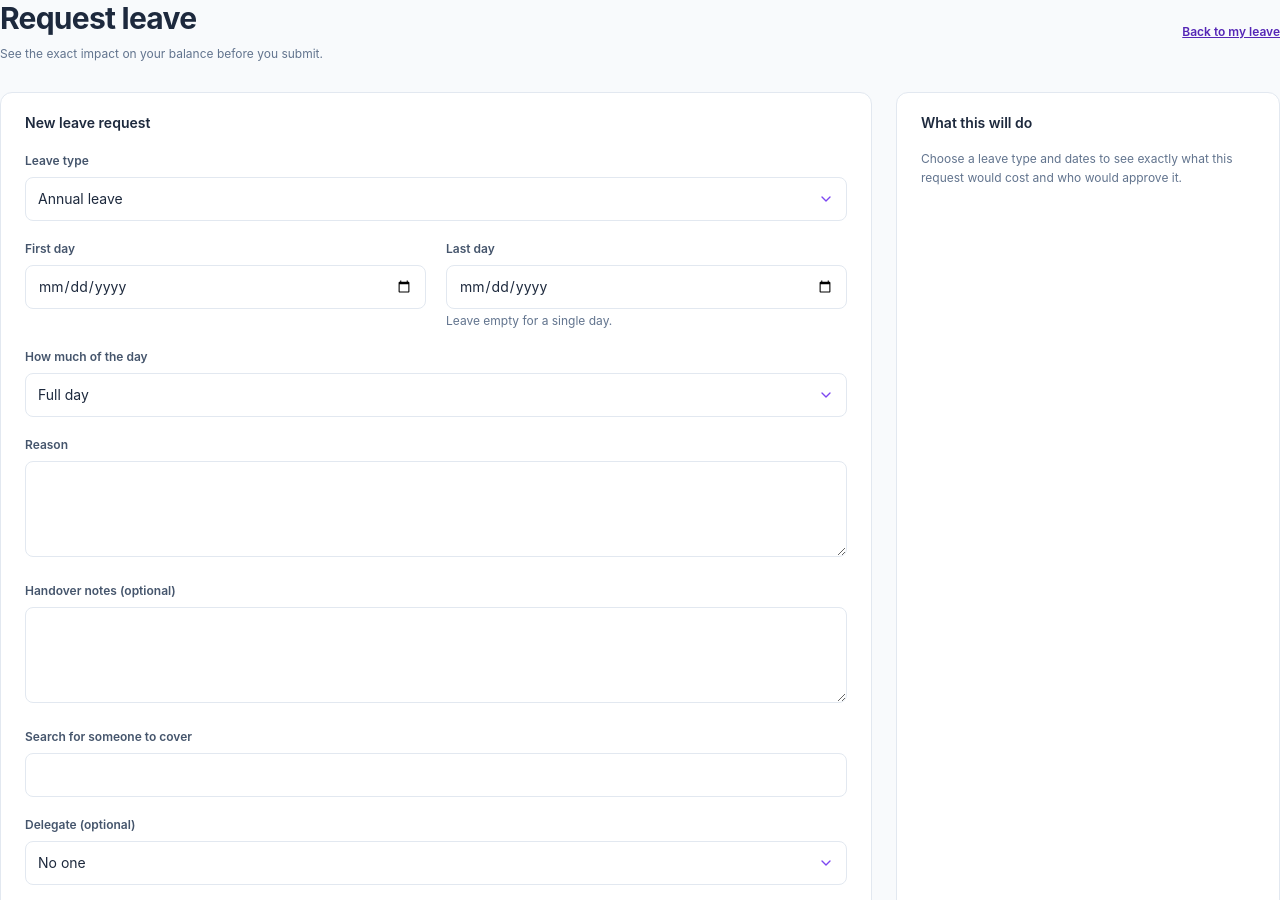
New request flow › previews the charge, explains it, and submits once with an idempotency key
The width and height of the screenshot is (1280, 900).
Type "2026-10-15" into the date field labelled "First day".
click(226, 286); type("2026-10-15")  # box [25,264,426,308]
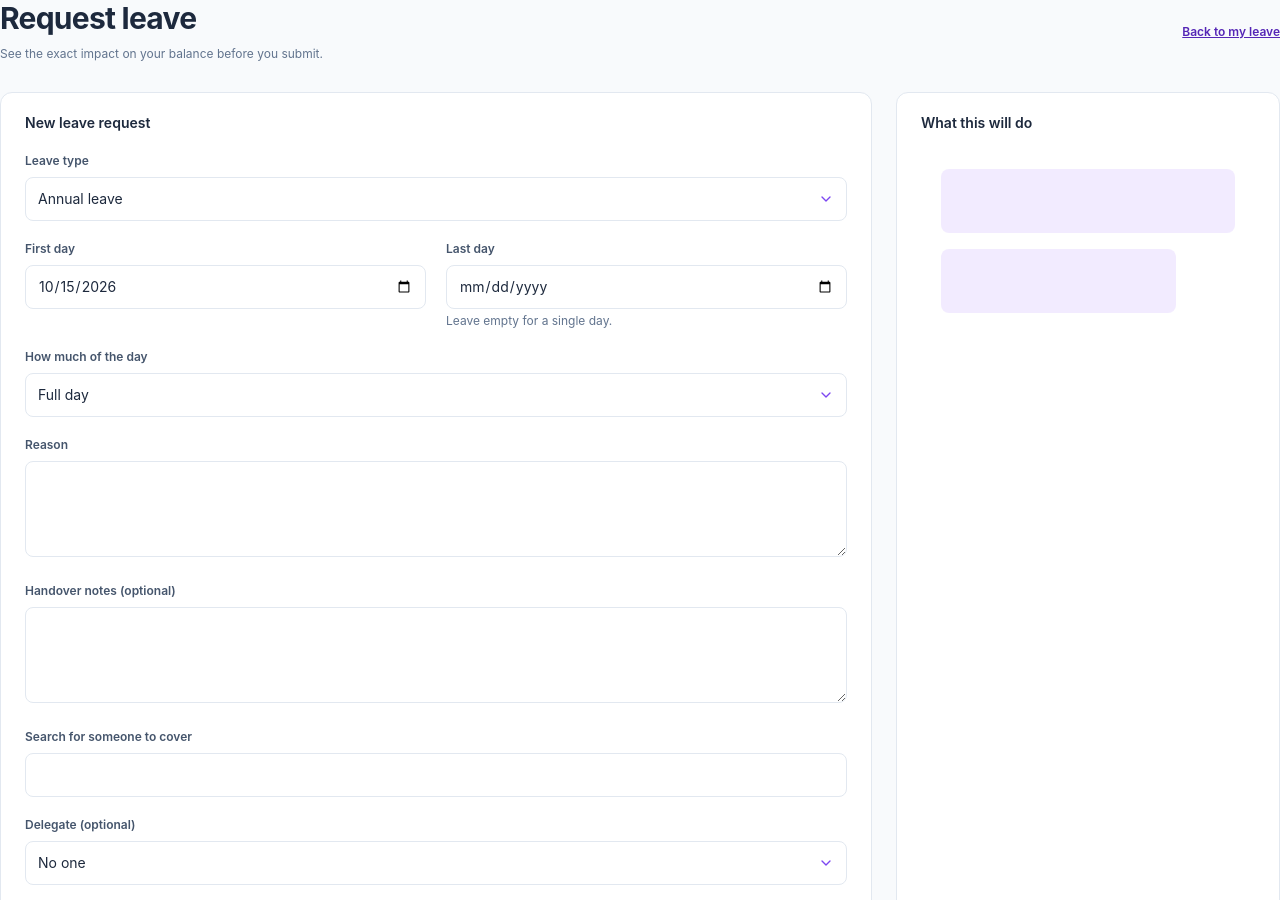
Type "2026-10-16" into the date field labelled "Last day".
click(646, 286); type("2026-10-16")  # box [446,264,847,308]
(page scrolled)
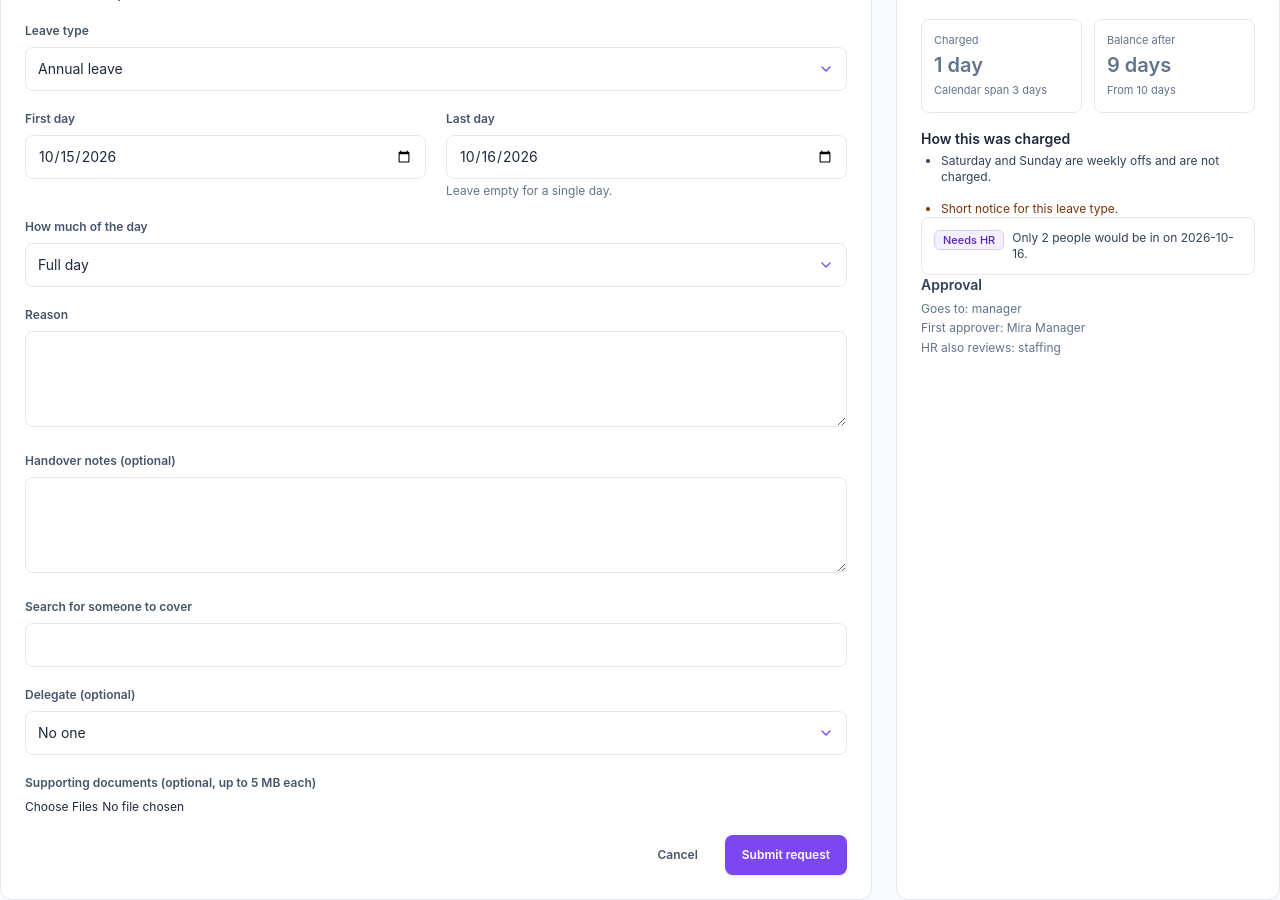
Check: the text with test id "charged" reads "1 day", box [934,53,983,77]
Check: the text with test id "projected" reads "9 days", box [1107,53,1171,77]
Check: the list item "Saturday and Sunday are weekly offs and are not charged." is shown, box [941,153,1255,185]
Click the button "Submit request".
click(786, 854)  # box [725,834,847,874]
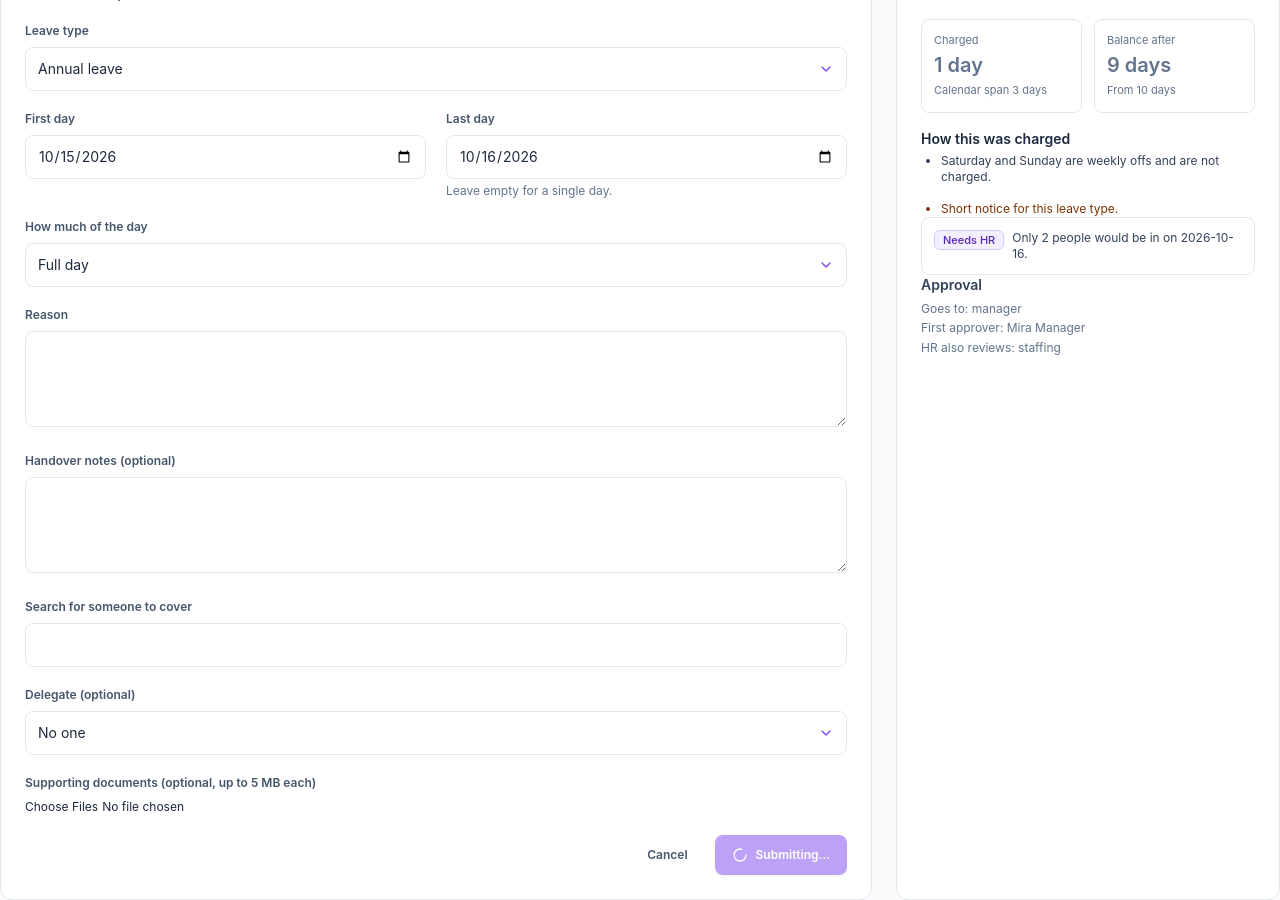
Click the button named "Submit request".
click(781, 854)  # box [715,834,847,874]
(page scrolled)
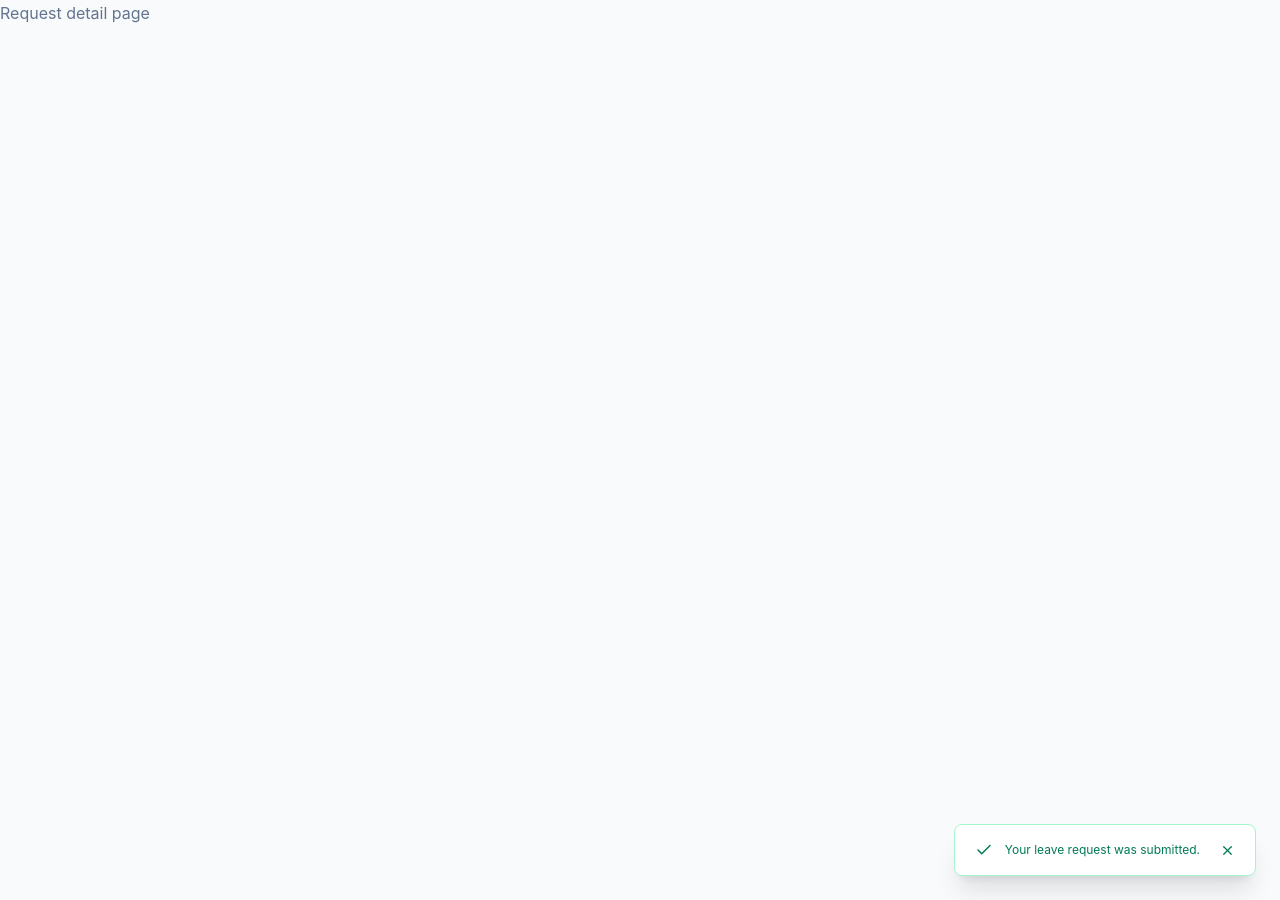
Check: the text "Request detail page" is shown, box [0,3,150,23]
